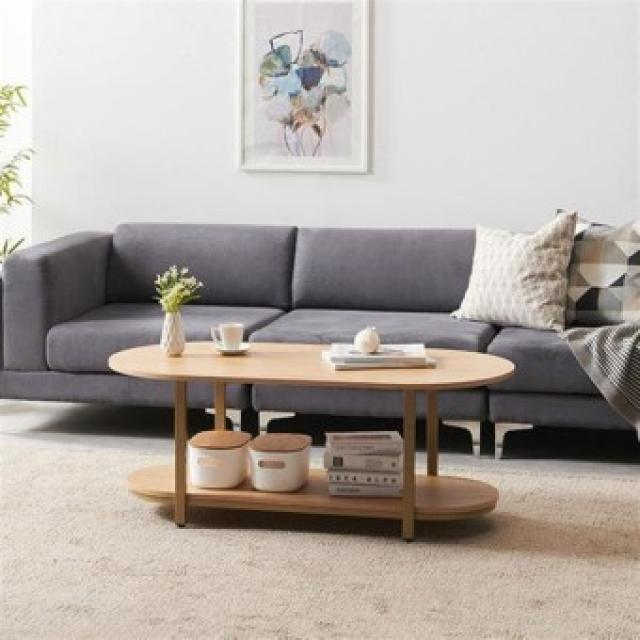Sofa: (9, 216, 634, 423)
Table: (109, 340, 514, 539)
